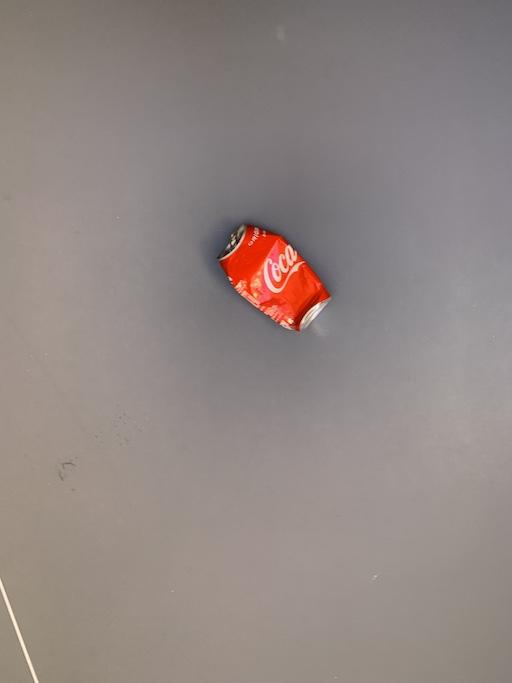Aluminum can: (211, 208, 353, 339)
